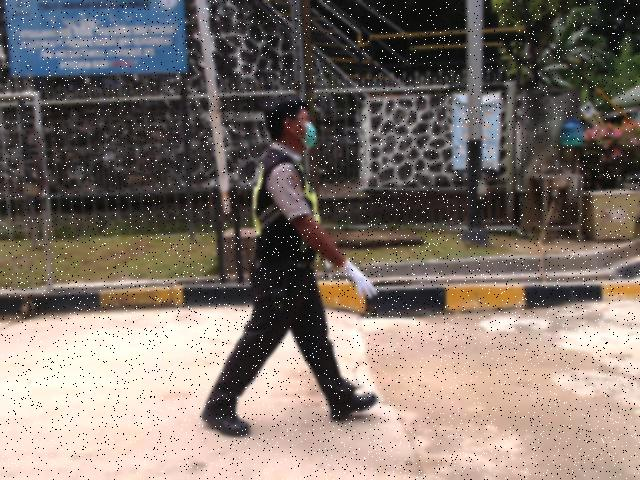gloves: (334, 254, 380, 303)
mask: (303, 123, 316, 149)
safety-shoes: (324, 391, 379, 422), (199, 406, 251, 435)
